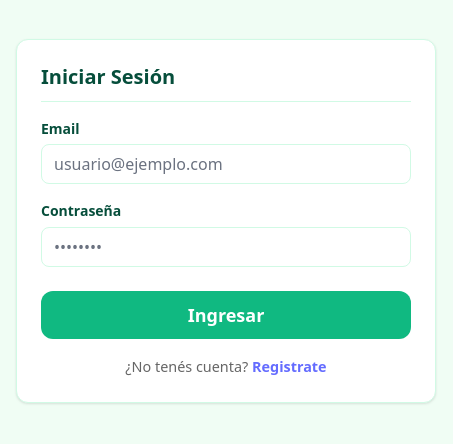
Test: Login › muestra errores de validación cuando los campos están vacíos
This screenshot has width=453, height=444.
Click the button "Ingresar" at (226, 315), box [41, 291, 411, 339]
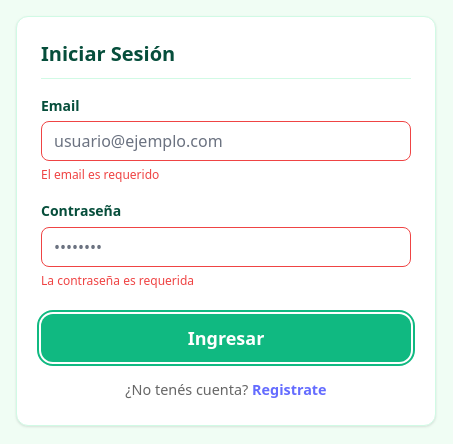
Expected: the text "El email es requerido" is shown, [41, 166, 159, 183]
Expected: the text "La contraseña es requerida" is shown, [41, 272, 194, 289]
